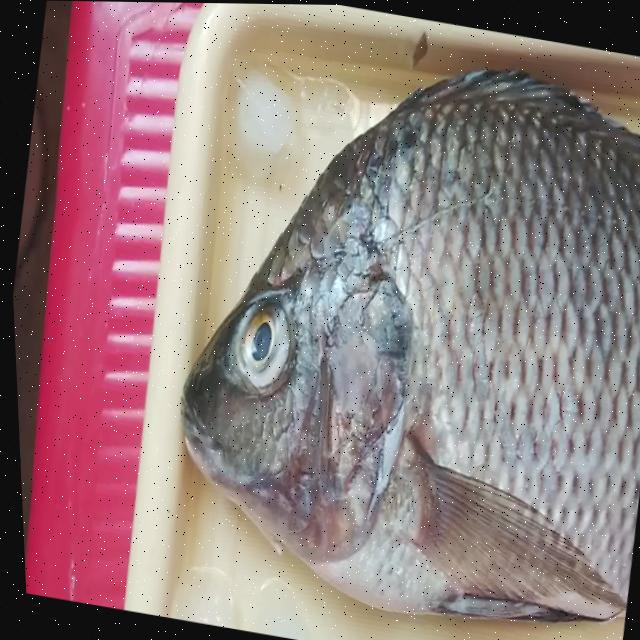Fresh: (273, 34, 640, 640), (213, 260, 324, 432)
